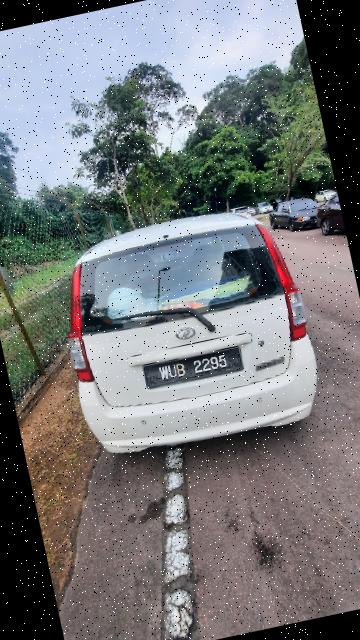License_Plate: (137, 341, 252, 399)
car: (45, 192, 331, 480)
